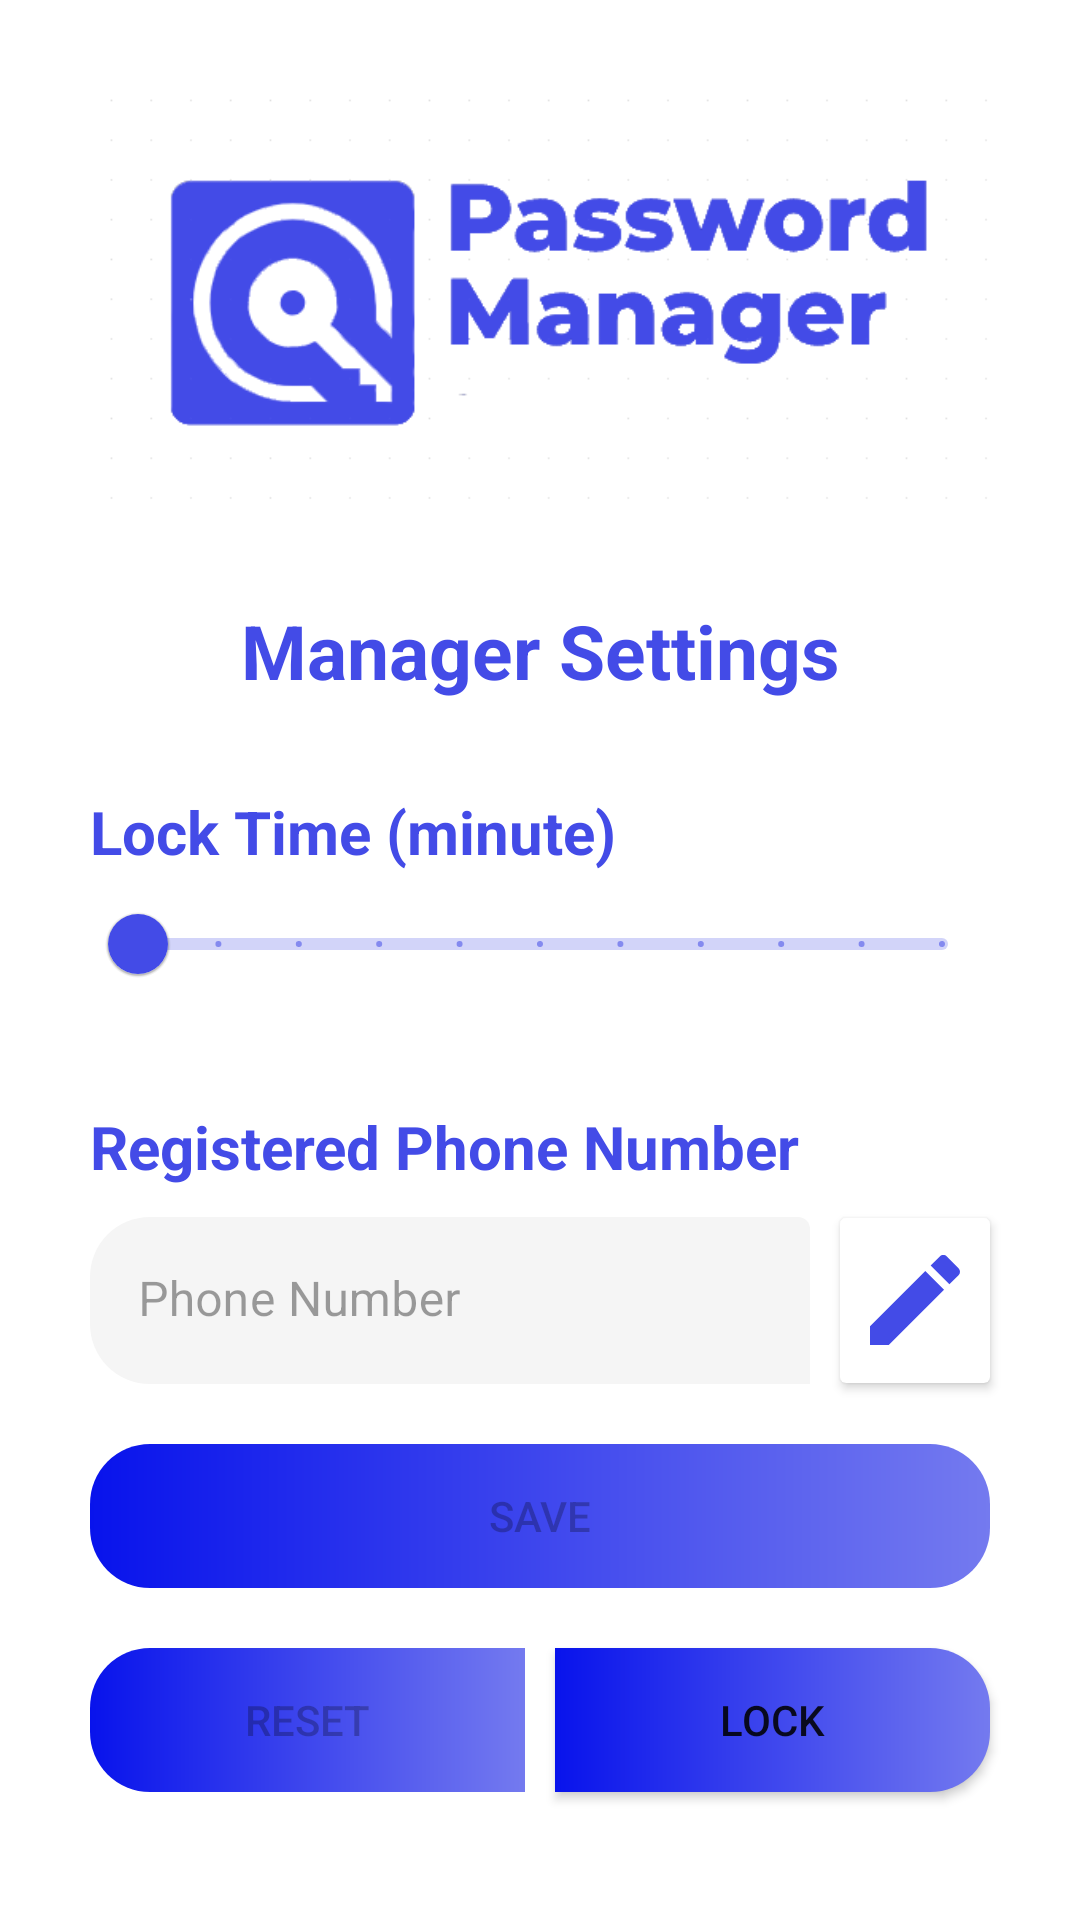

Named icons in this screenshot (1080x1920) and their centers, point (x, y):
edit: point (915, 1300)
